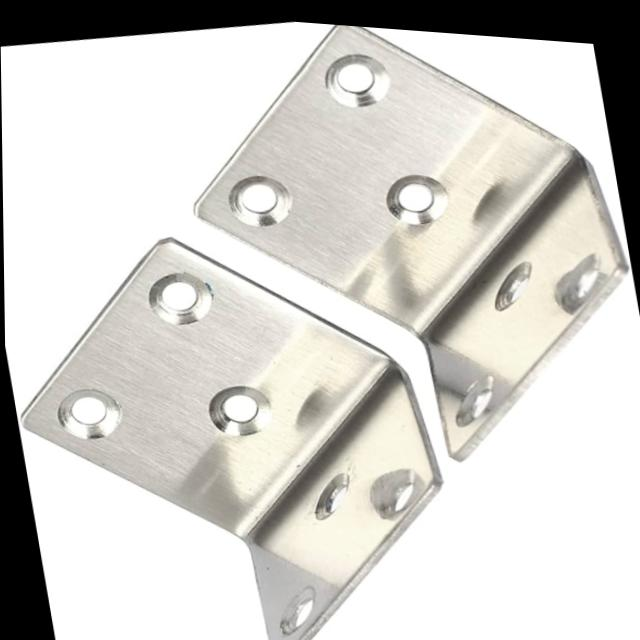holes: (144, 267, 219, 327), (321, 46, 395, 106), (225, 168, 297, 227), (53, 385, 126, 443), (204, 379, 276, 437), (382, 166, 453, 223), (364, 461, 424, 517), (482, 254, 539, 301), (307, 465, 358, 517), (446, 370, 500, 415), (278, 585, 317, 625), (567, 255, 606, 295)
